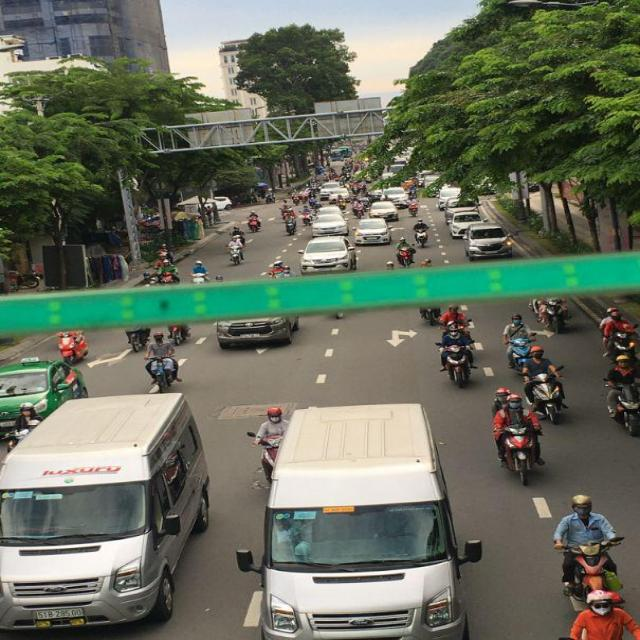car: (252, 403, 483, 639), (1, 388, 212, 637), (0, 357, 90, 436), (217, 317, 298, 353), (299, 237, 355, 270), (465, 225, 514, 261), (312, 208, 350, 239), (446, 209, 482, 240), (357, 217, 392, 246)
motorcycle: (565, 538, 627, 611), (498, 422, 546, 486), (524, 366, 566, 424), (606, 381, 640, 436), (144, 354, 180, 393), (442, 346, 473, 387), (228, 238, 244, 263), (397, 246, 415, 268)
